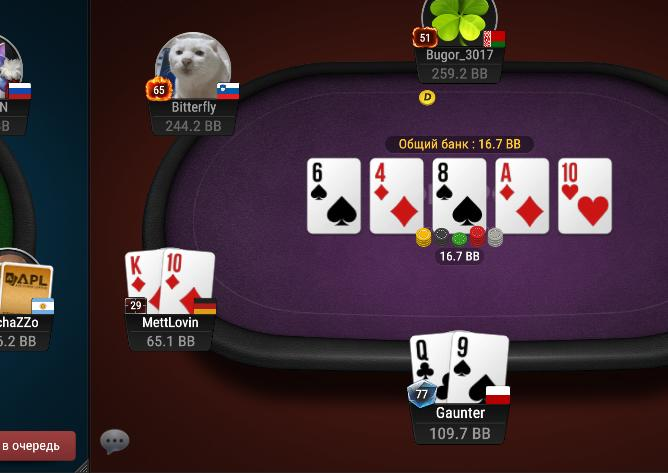10d: (163, 246, 214, 323)
10h: (559, 159, 613, 233)
4d: (369, 157, 424, 233)
6s: (308, 157, 359, 233)
8s: (432, 159, 488, 231)
9s: (451, 330, 508, 403)
Ad: (496, 158, 549, 234)
Kd: (126, 250, 164, 316)
Qc: (409, 334, 453, 403)
